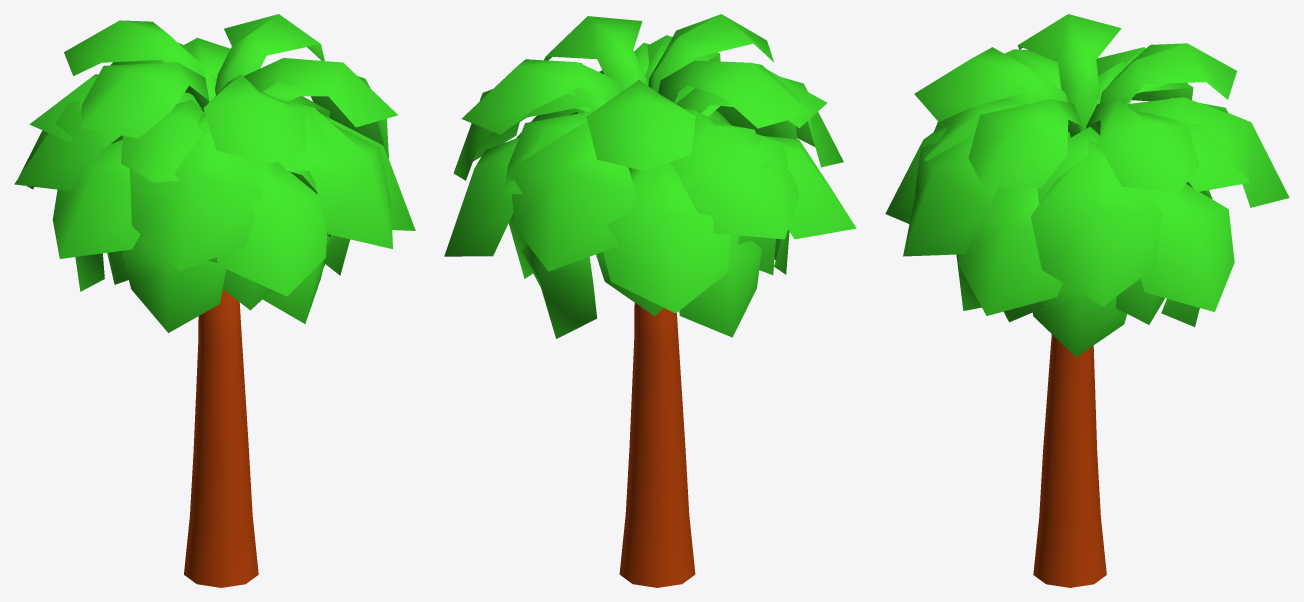
File: prop_palm_low.FBX
3 views of the same model, side by side, from view 1: azimuth 30°, elevation 25°; view 2: azimuth 150°, elevation 25°; view 3: azimuth 270°, elevation 25° (orthographic). The views are drawn at different scales.
Visible parts, largest first — view 1: prop_palm_low; view 2: prop_palm_low; view 3: prop_palm_low.
Boxes of the visible parts, bbox=[...] form: prop_palm_low: bbox=[14, 14, 415, 587]; prop_palm_low: bbox=[444, 14, 856, 587]; prop_palm_low: bbox=[885, 14, 1289, 587].
Size of the model in its own units: 1.4 by 1.92 by 1.37.
